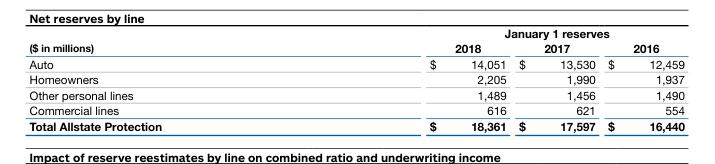table: (28, 28, 683, 133)
table column: (28, 28, 295, 133), (295, 28, 511, 133), (511, 28, 601, 133), (601, 28, 683, 133)
table column header: (28, 28, 683, 57)
table row: (28, 57, 683, 73), (28, 88, 683, 104), (28, 42, 683, 57), (28, 73, 683, 88), (28, 104, 683, 119), (28, 28, 683, 42), (28, 119, 683, 133)
table spanning cell: (28, 28, 295, 57), (295, 28, 683, 42)
